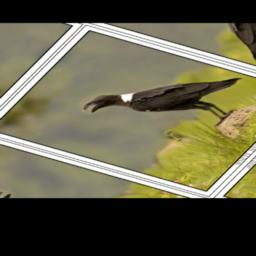Crow: (78, 48, 256, 145)
